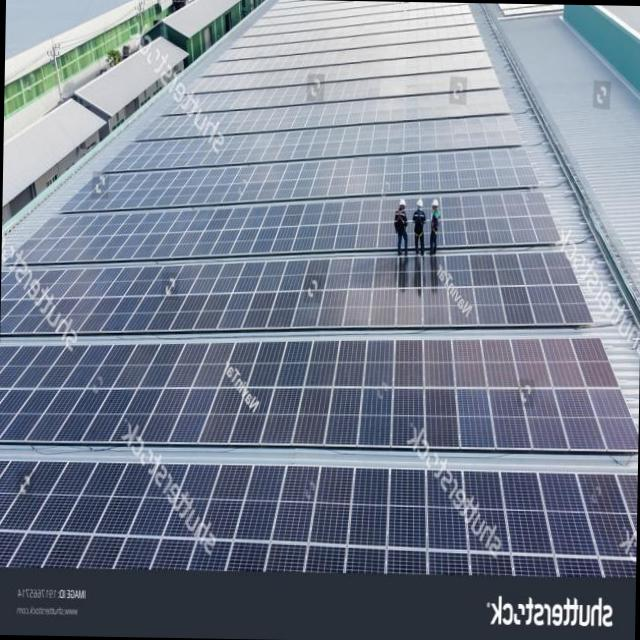no faulty: (0, 464, 636, 577), (1, 337, 636, 447), (1, 254, 592, 339), (62, 145, 537, 210)
